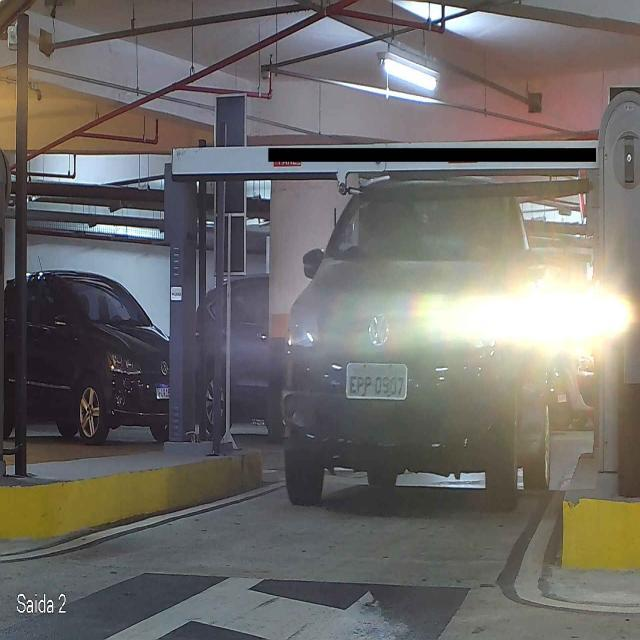old_plate: (343, 360, 410, 402)
